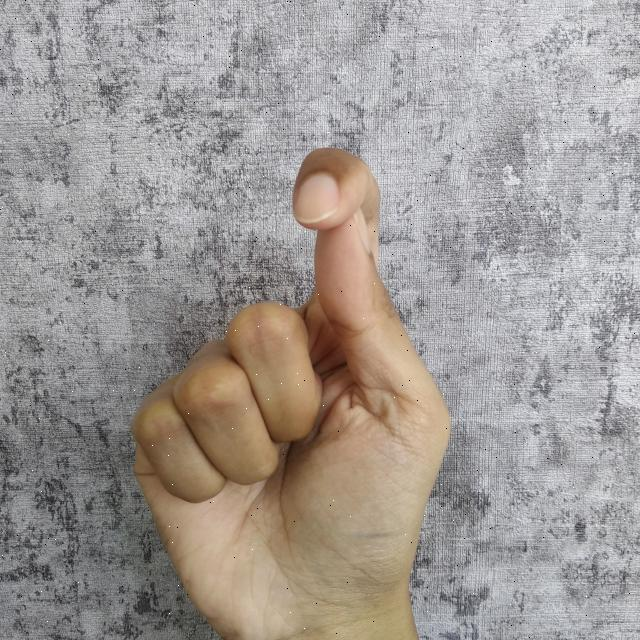T: (129, 143, 463, 640)
